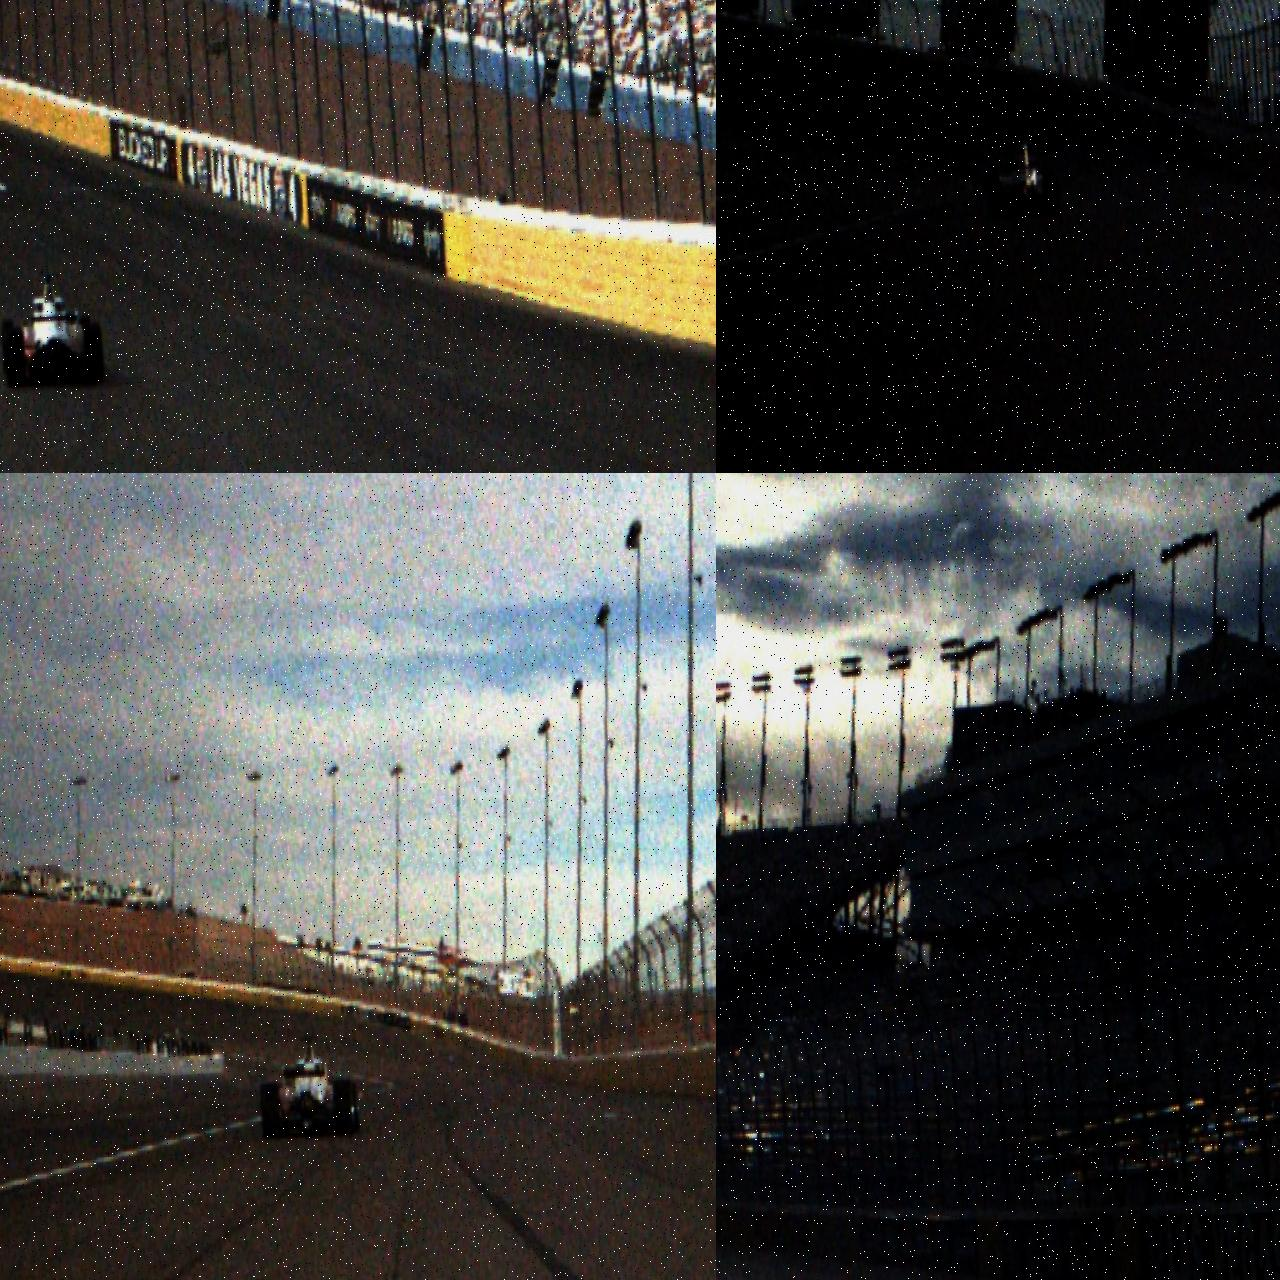AV: (0, 268, 105, 390), (256, 1030, 361, 1140), (984, 128, 1060, 218)
Wheel: (4, 326, 26, 389), (84, 322, 105, 384), (260, 1082, 282, 1140), (333, 1078, 354, 1136), (0, 318, 16, 374), (1042, 170, 1060, 214), (345, 1081, 360, 1130), (986, 173, 1002, 217)
